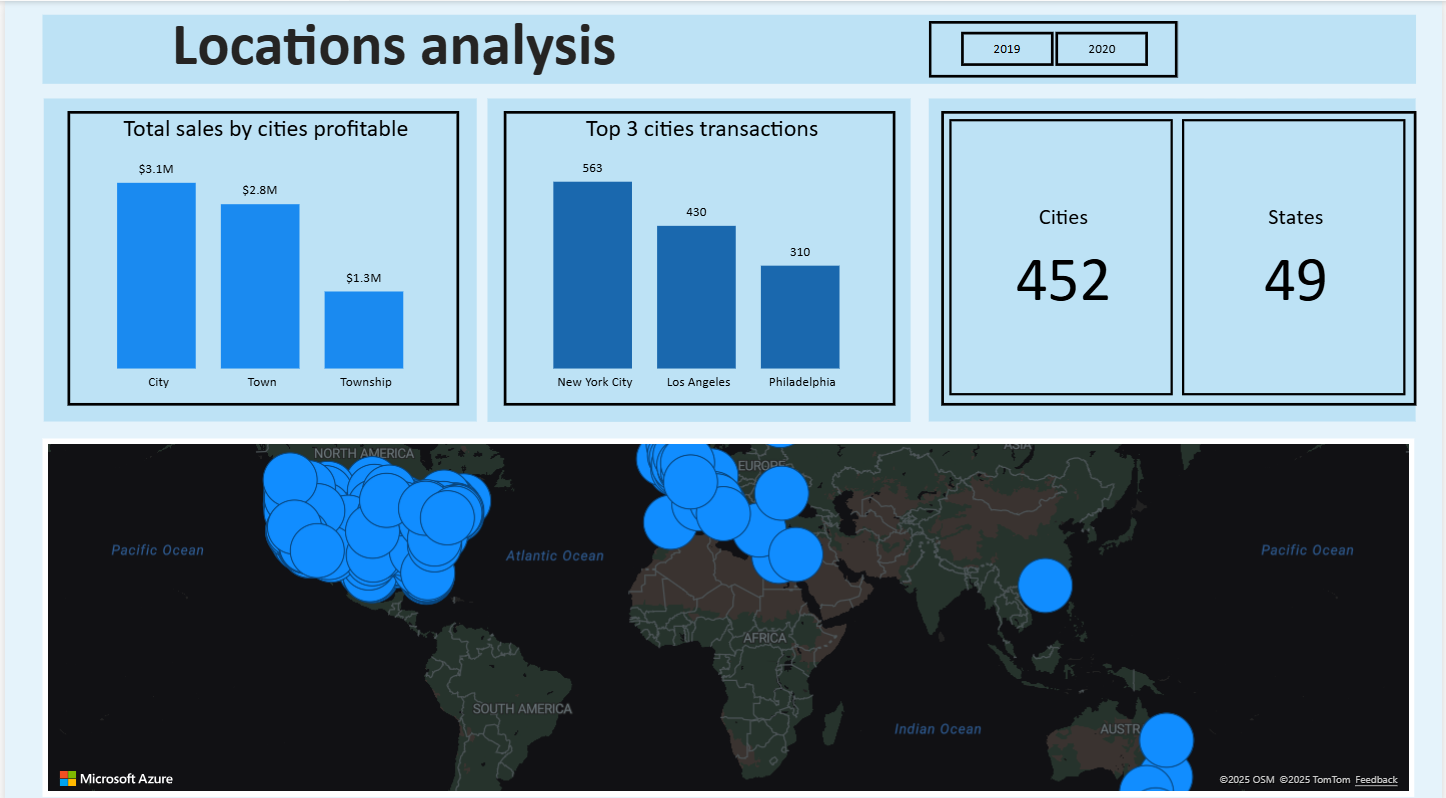

The dashboard page shown, as its layout file describes it:
{"tool":"powerbi","page":{"name":"Location Analysis","canvas":[1280,720],"ordinal":1},"visuals":[{"type":"azureMap","fields":{"Category":["Sales.City"]},"box":[33.6,390,1221.6,319],"z":0},{"type":"shape","box":[34.2,87.1,385.6,287.7],"z":1000},{"type":"clusteredColumnChart","title":"Total sales by cities profitable","fields":{"Category":["Sales.Cities profitable"],"Y":["Dashboard Measures.Total Sales"]},"box":[55.5,98.1,348.7,262.2],"z":2000},{"type":"shape","box":[430,86.5,377.1,288],"z":3000},{"type":"columnChart","title":"Top 3  cities transactions","fields":{"Category":["Sales.City"],"Y":["Dashboard Measures.Transactions"]},"box":[444.2,98.1,348.7,262.2],"z":4000},{"type":"shape","box":[822.6,87.1,433.8,287.7],"z":5000},{"type":"cardVisual","fields":{"Data":["Dashboard Measures.Cities","Dashboard Measures.States"]},"box":[833.4,98,422.9,262.8],"z":6000},{"type":"shape","box":[33.8,12.1,1223.3,61.5],"z":7000},{"type":"textbox","box":[143.6,1.2,518.9,82.1],"z":8000},{"type":"slicer","fields":{"Values":["Date.Year"]},"box":[822.8,18.1,222,50.7],"z":9000}]}

Visuals, with their boxes in screenshot pixels (x1, y1, x2, y2), scaled from the page's 1280x720 canvas onto the 1446x798 screenshot:
azureMap - Sales.City: select_region(38, 432, 1418, 786)
shape: select_region(39, 97, 474, 415)
"Total sales by cities profitable" clusteredColumnChart: select_region(63, 109, 457, 399)
shape: select_region(486, 96, 912, 415)
"Top 3  cities transactions" columnChart: select_region(502, 109, 896, 399)
shape: select_region(929, 97, 1419, 415)
cardVisual - Dashboard Measures.Cities x Dashboard Measures.States: select_region(941, 109, 1419, 400)
shape: select_region(38, 13, 1420, 82)
textbox: select_region(162, 1, 748, 92)
slicer - Date.Year: select_region(930, 20, 1180, 76)
